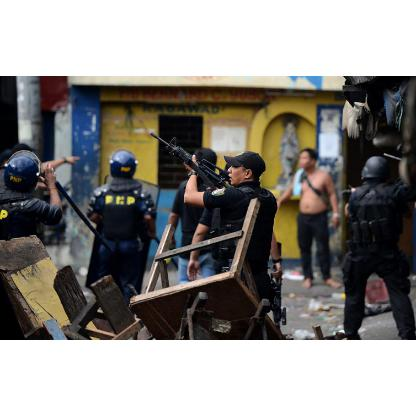gun: (145, 129, 239, 199)
